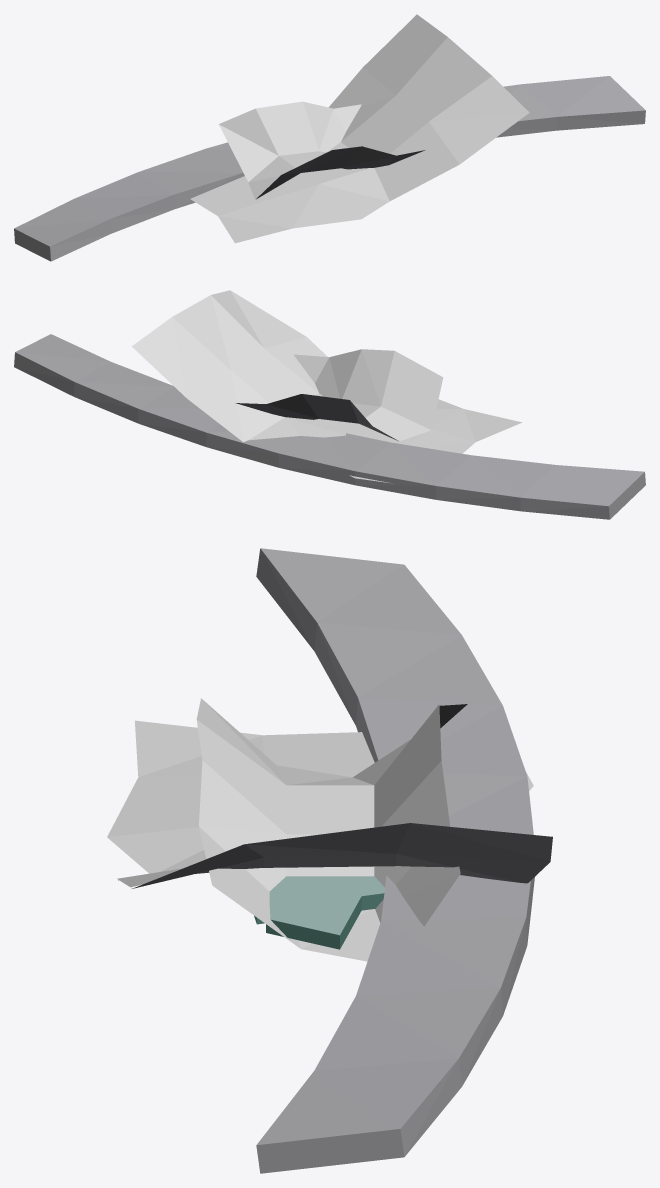
Rendered from debris.glb.
The picture shows the model from 3 angles, top to bottom: view 1: azimuth 30°, elevation 25°; view 2: azimuth 150°, elevation 25°; view 3: azimuth 270°, elevation 25°; orthographic projection. The views are drawn at different scales.
Parts seen in each view (by area): view 1: scrap_a, trim, scrap_b; view 2: trim, scrap_a, scrap_b; view 3: trim, scrap_b, scrap_a, shard_b, shard_a.
Part boxes in pixels (bbox=[...]): scrap_a: bbox=[190, 14, 529, 243]; trim: bbox=[14, 76, 645, 261]; scrap_b: bbox=[218, 101, 425, 199]; trim: bbox=[14, 334, 645, 519]; scrap_a: bbox=[132, 290, 522, 483]; scrap_b: bbox=[236, 349, 443, 441]; trim: bbox=[256, 548, 534, 1173]; scrap_b: bbox=[196, 698, 467, 961]; scrap_a: bbox=[107, 720, 552, 888]; shard_b: bbox=[266, 876, 372, 949]; shard_a: bbox=[254, 876, 384, 924].
Bounding box in the file's own units: 0.52 × 0.0822 × 0.1688.
